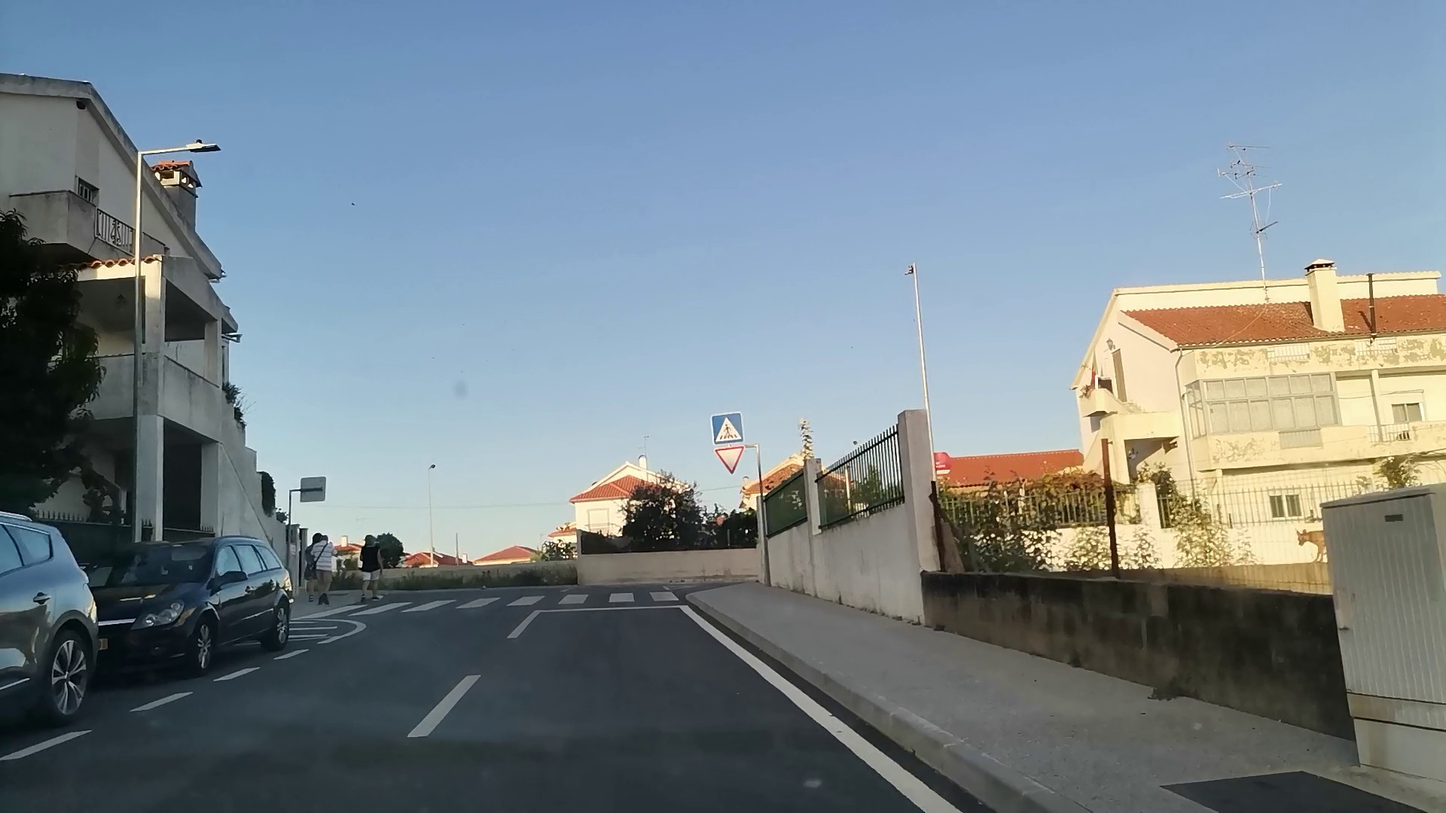Stairs: (338, 582, 687, 621)
